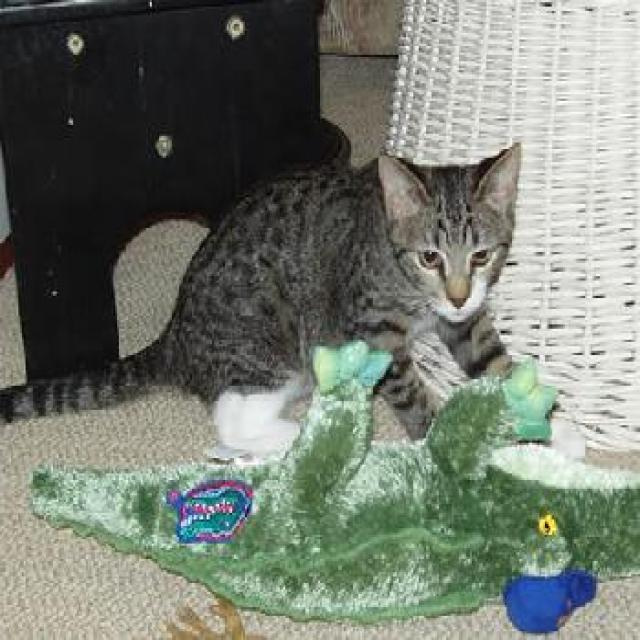Cats: (0, 138, 521, 463)
